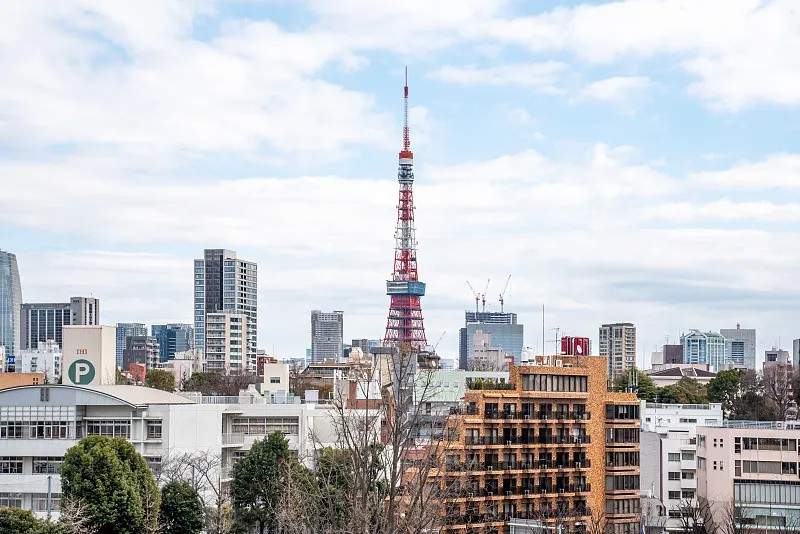Tokyo: (380, 63, 431, 354)
